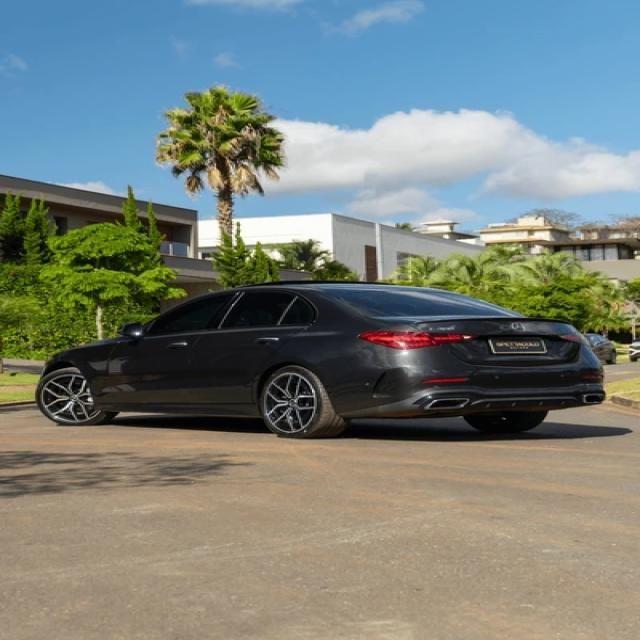mercedes: (510, 318, 530, 336)
